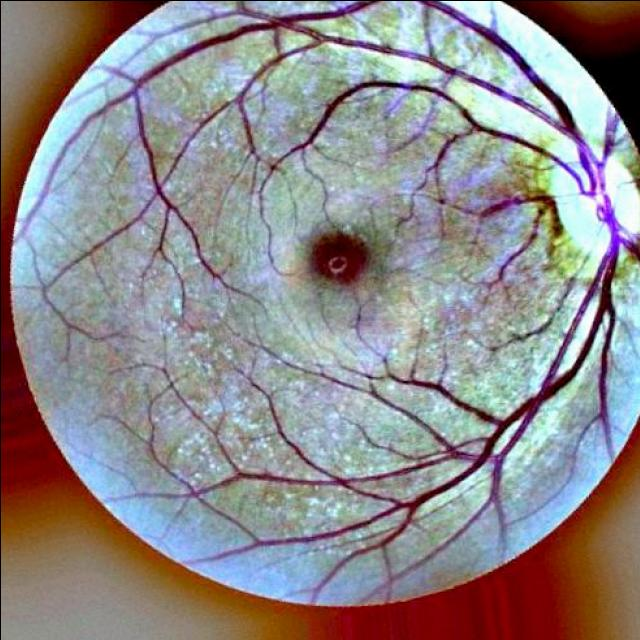Macula: (308, 233, 367, 285)
Nerves: (14, 0, 640, 604), (479, 195, 559, 285), (489, 280, 574, 354)
Optic Disk: (544, 135, 640, 280)
